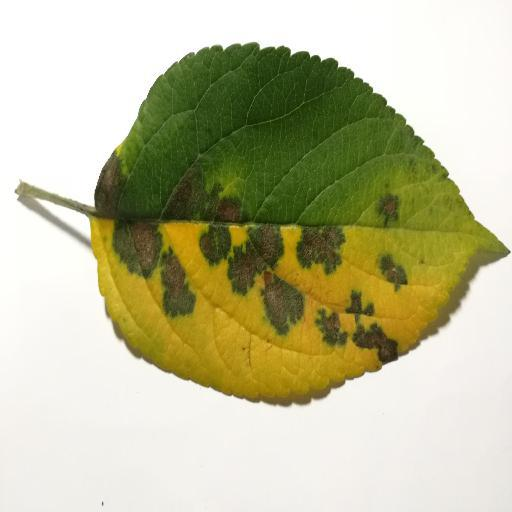Brown_Spot: (89, 162, 470, 354)
